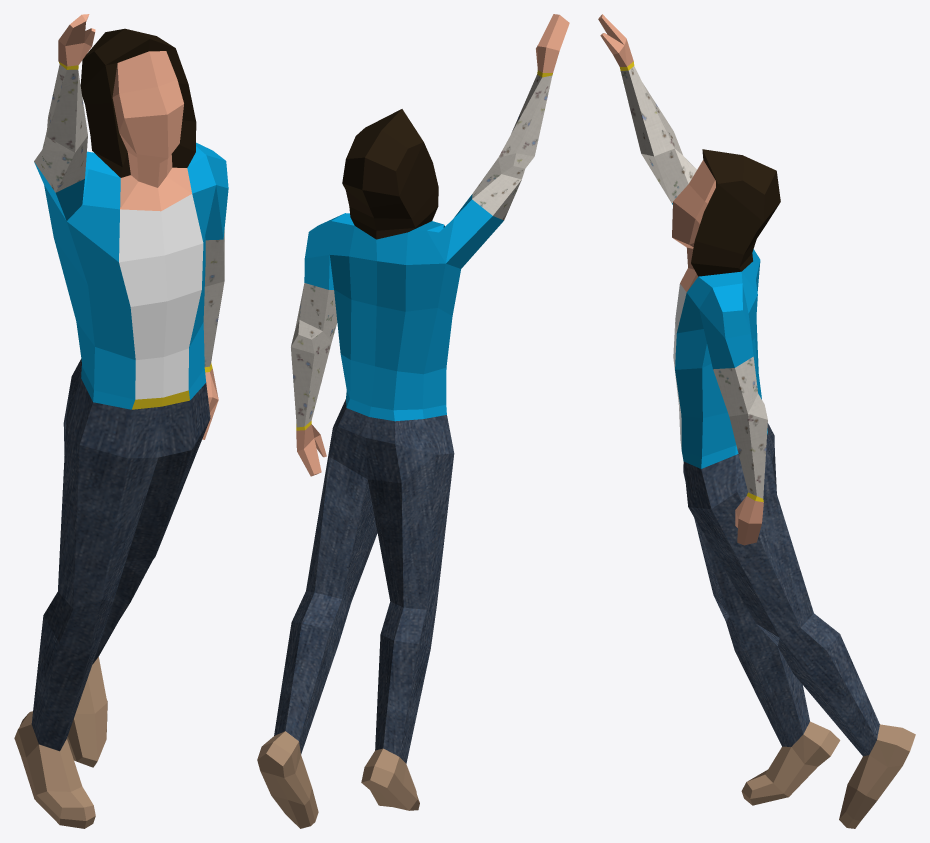
File: SpringGirl.004.glb
3 renders of one model, left to right at view 1: azimuth 30°, elevation 25°; view 2: azimuth 150°, elevation 25°; view 3: azimuth 270°, elevation 25°, orthographic. The views are drawn at different scales.
Parts seen in each view (by area): view 1: SpringGirl.004; view 2: SpringGirl.004; view 3: SpringGirl.004.
Part boxes in pixels (x1=…): SpringGirl.004: x1=14, y1=14, x2=228, y2=828; SpringGirl.004: x1=257, y1=14, x2=569, y2=828; SpringGirl.004: x1=598, y1=14, x2=915, y2=828.
Bounding box in the file's own units: 0.3863 × 1.38 × 0.5297.
Materials: 1 (1 with a texture image).
